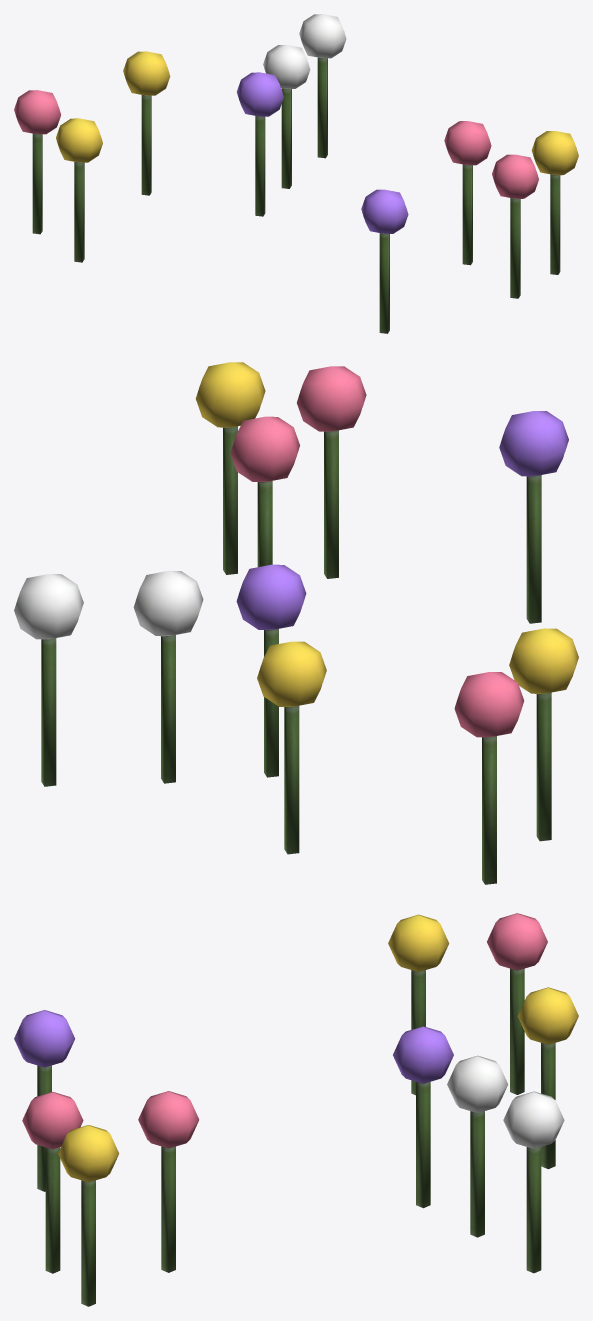
File: flowers.glb
The picture shows the model from 3 angles, top to bottom: view 1: azimuth 30°, elevation 25°; view 2: azimuth 150°, elevation 25°; view 3: azimuth 270°, elevation 25°; orthographic projection. The views are drawn at different scales.
Parts seen in each view (by area): view 1: flowers; view 2: flowers; view 3: flowers.
Part boxes in pixels (bbox=[...]): flowers: bbox=[14, 14, 578, 333]; flowers: bbox=[14, 362, 578, 884]; flowers: bbox=[14, 913, 578, 1306].
Bounding box in the file's own units: 0.9167 × 0.32 × 0.921.
2 materials, 2 textured.
